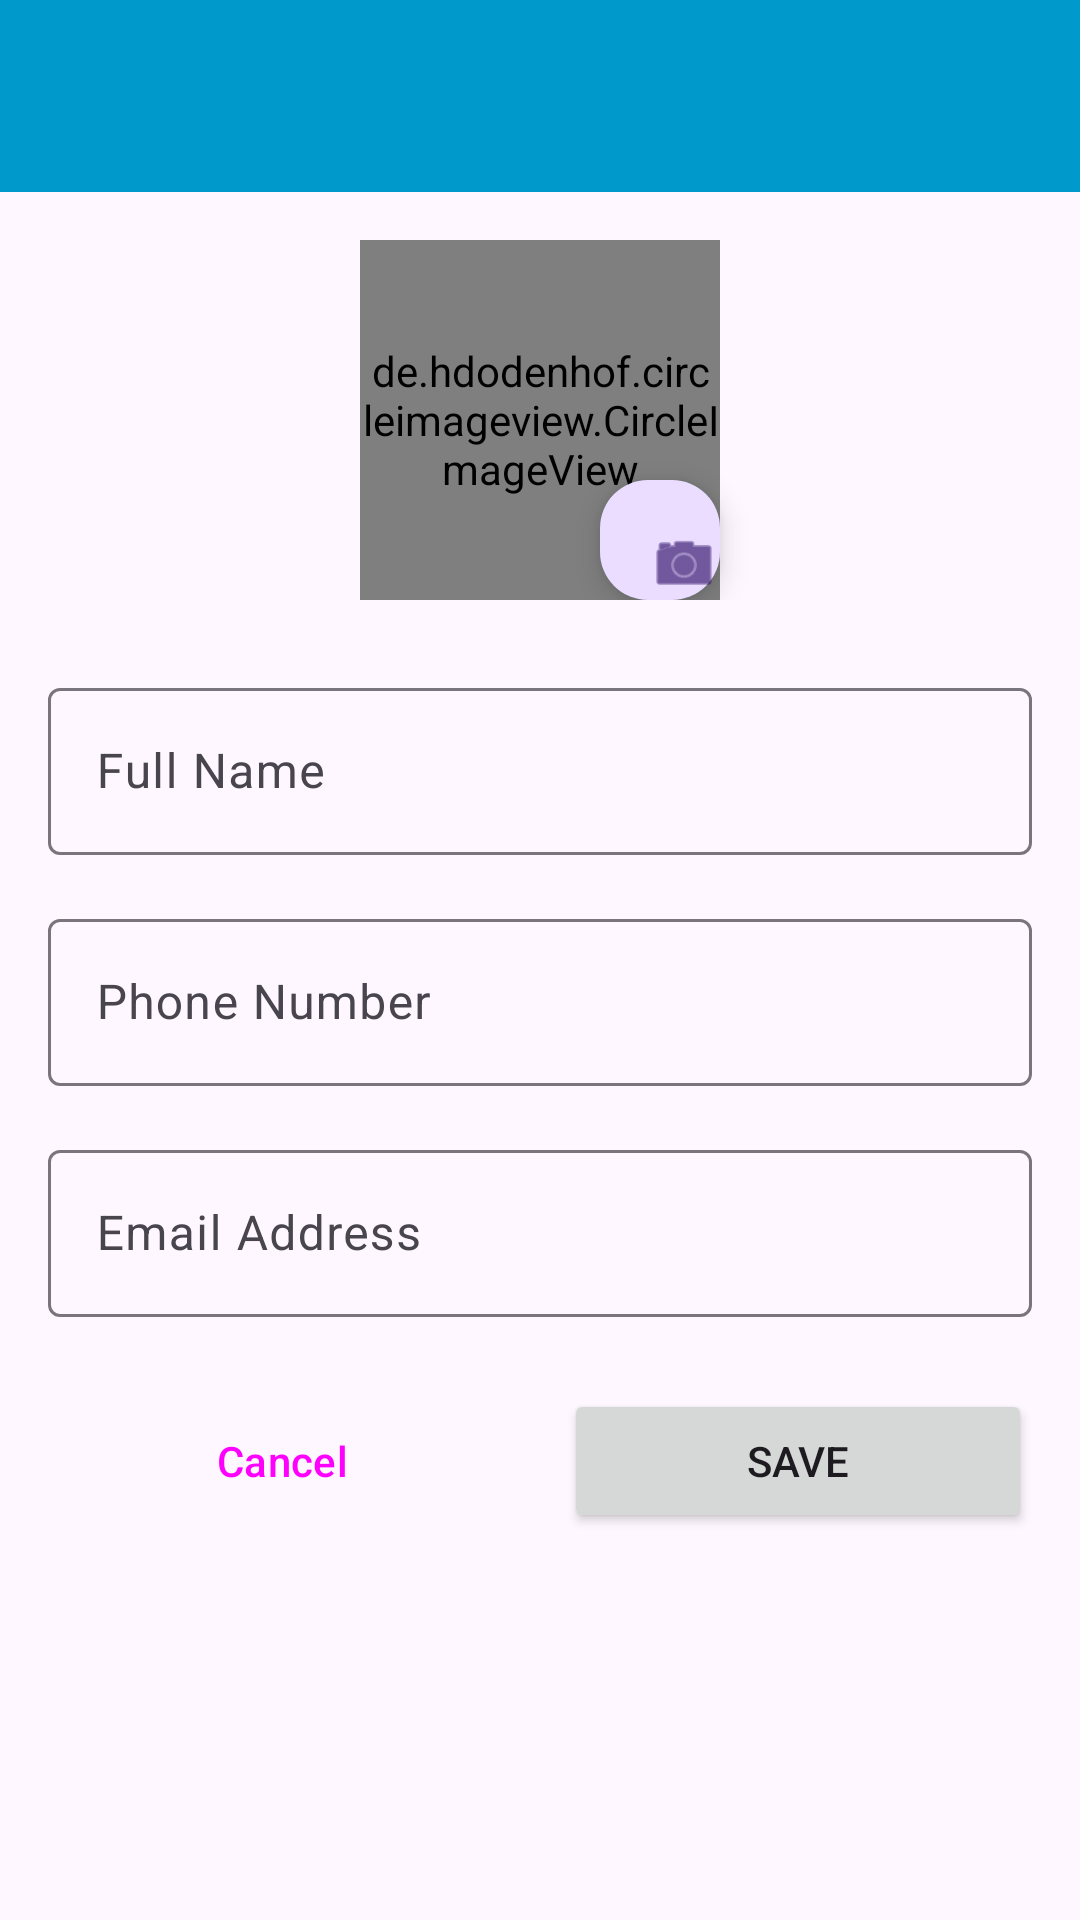

Named icons in this screenshot (1080x1920) and their centers, [x,y]:
camera: [660,540]
